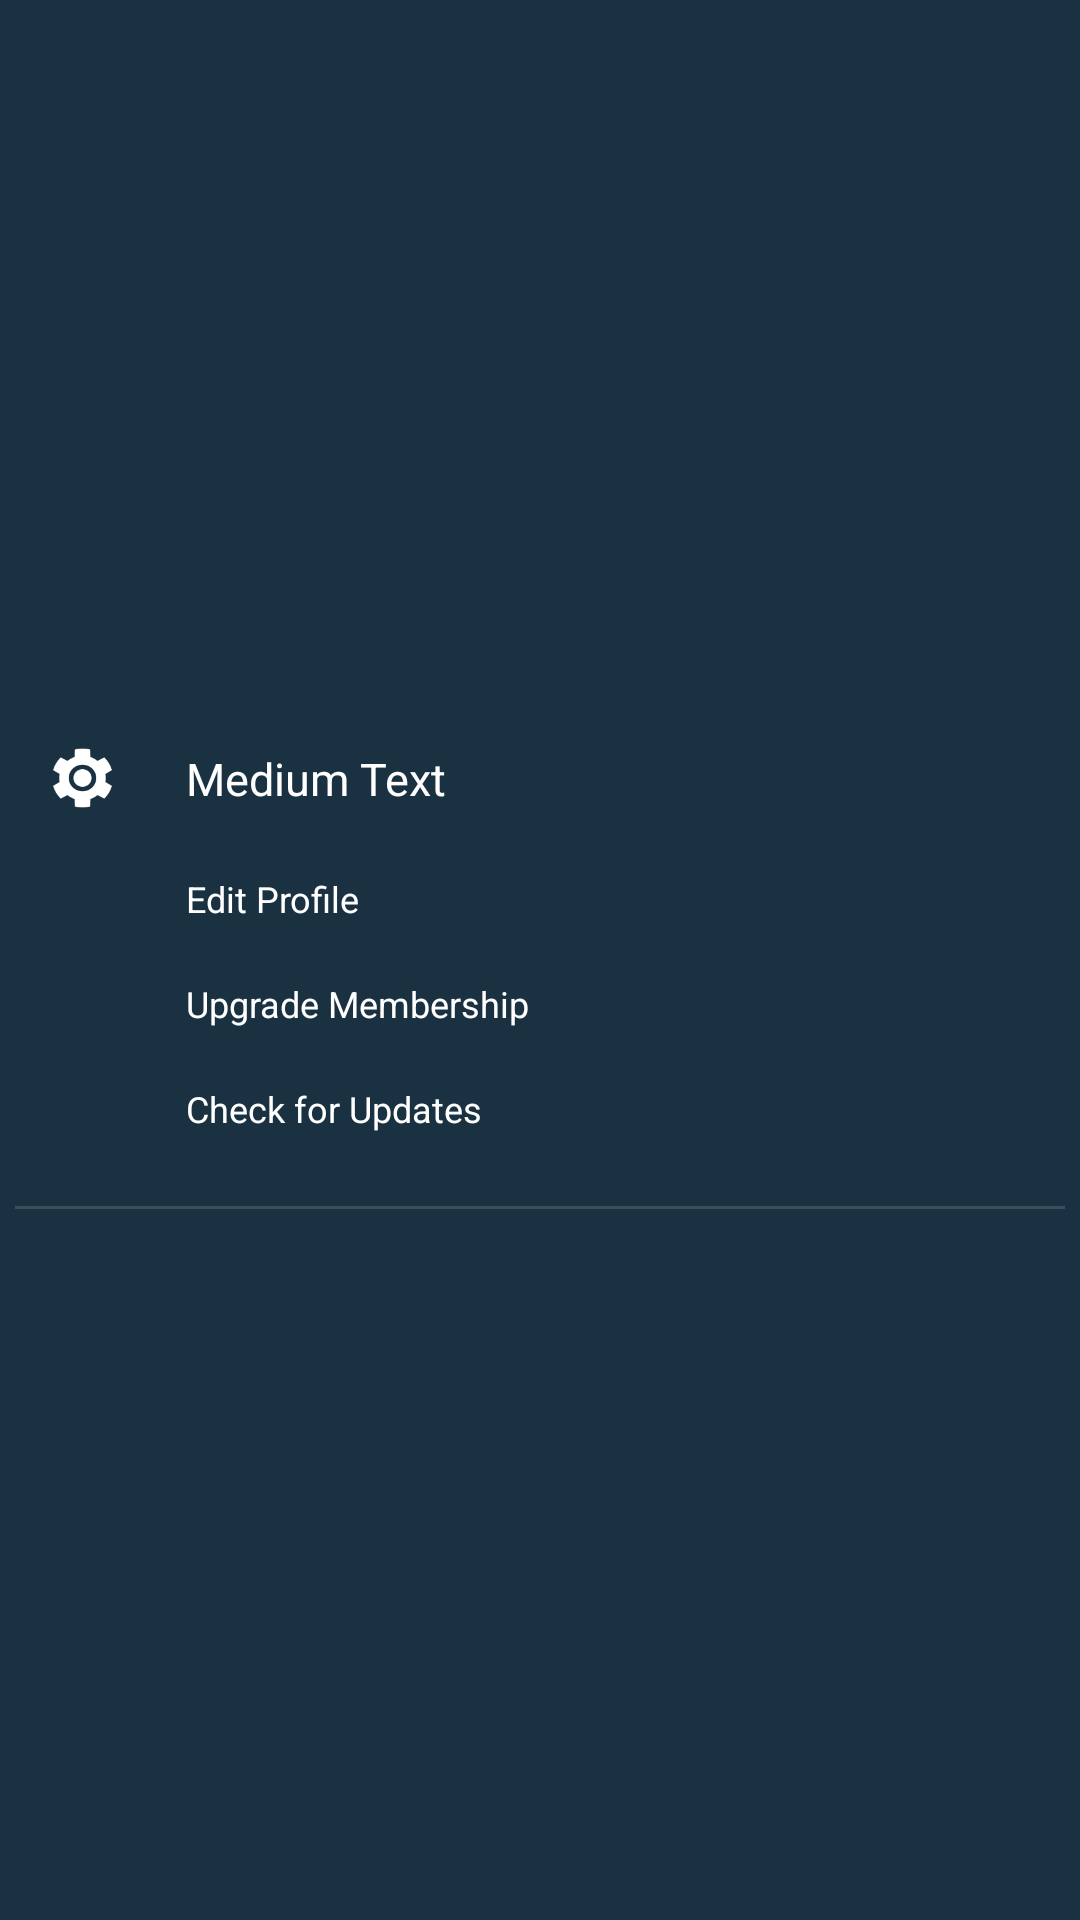

Where to tap for icons on this 1080*1920 app screen, as [x,y]:
settings sidemenu: [82,778]
